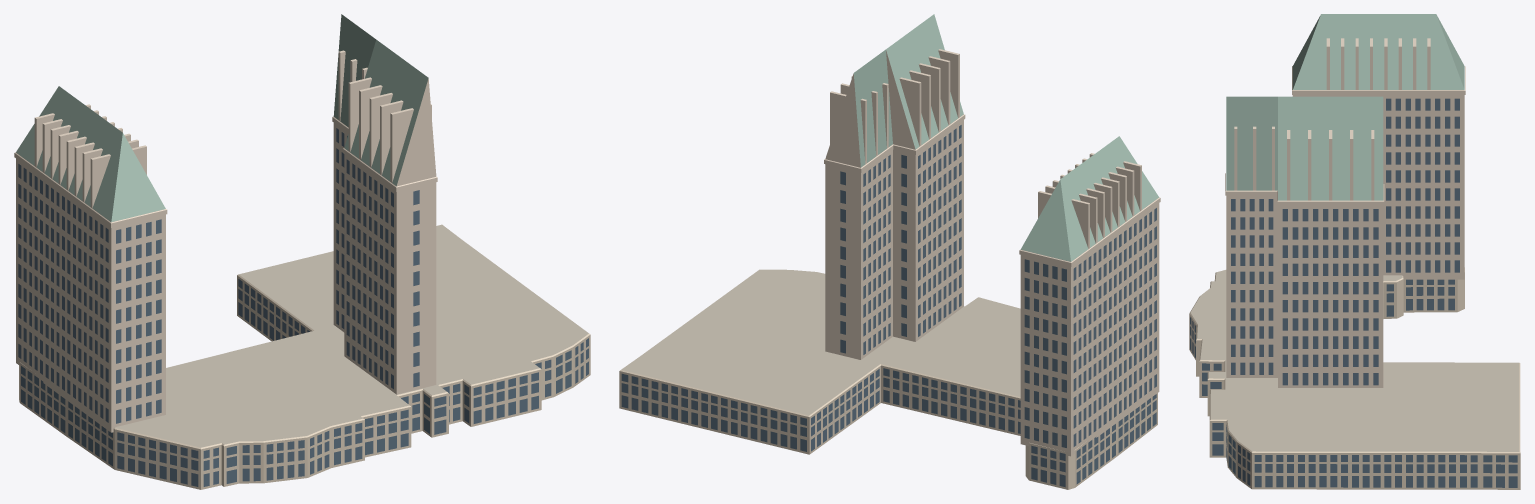
File: sd-manchester-grand-hyatt.glb
3 renders of one model, left to right at view 1: azimuth 30°, elevation 25°; view 2: azimuth 150°, elevation 25°; view 3: azimuth 270°, elevation 25°, orthographic. The views are drawn at different scales.
Parts seen in each view (by area): view 1: Manchester Grand Hyatt San Diego; view 2: Manchester Grand Hyatt San Diego; view 3: Manchester Grand Hyatt San Diego.
Boxes of the visible parts, left/top/right/bottom form: Manchester Grand Hyatt San Diego: left=14, top=14, right=590, bottom=489; Manchester Grand Hyatt San Diego: left=619, top=14, right=1160, bottom=489; Manchester Grand Hyatt San Diego: left=1189, top=14, right=1520, bottom=489.
Size of the model in its own units: 207 by 152 by 144.
